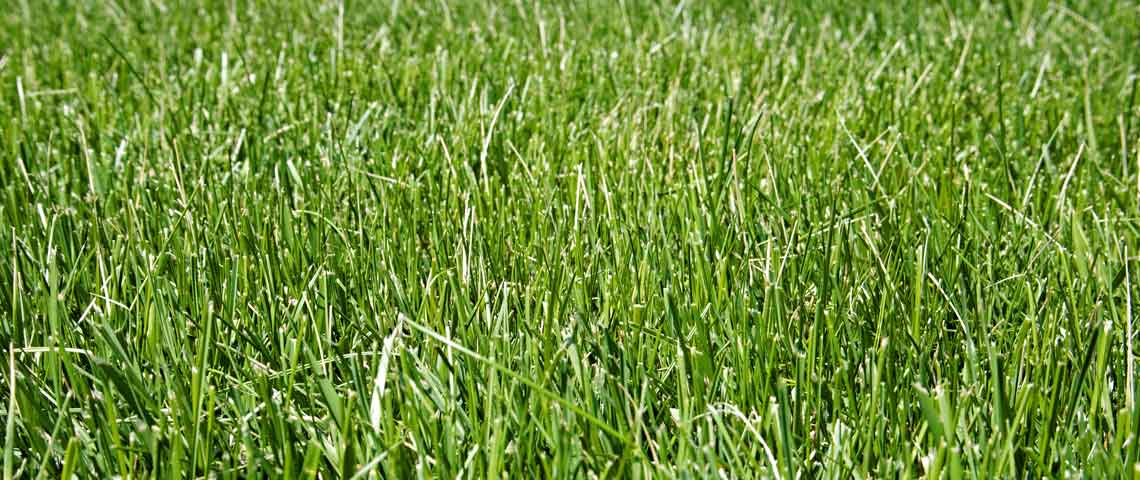grass: (1, 1, 1140, 480)
